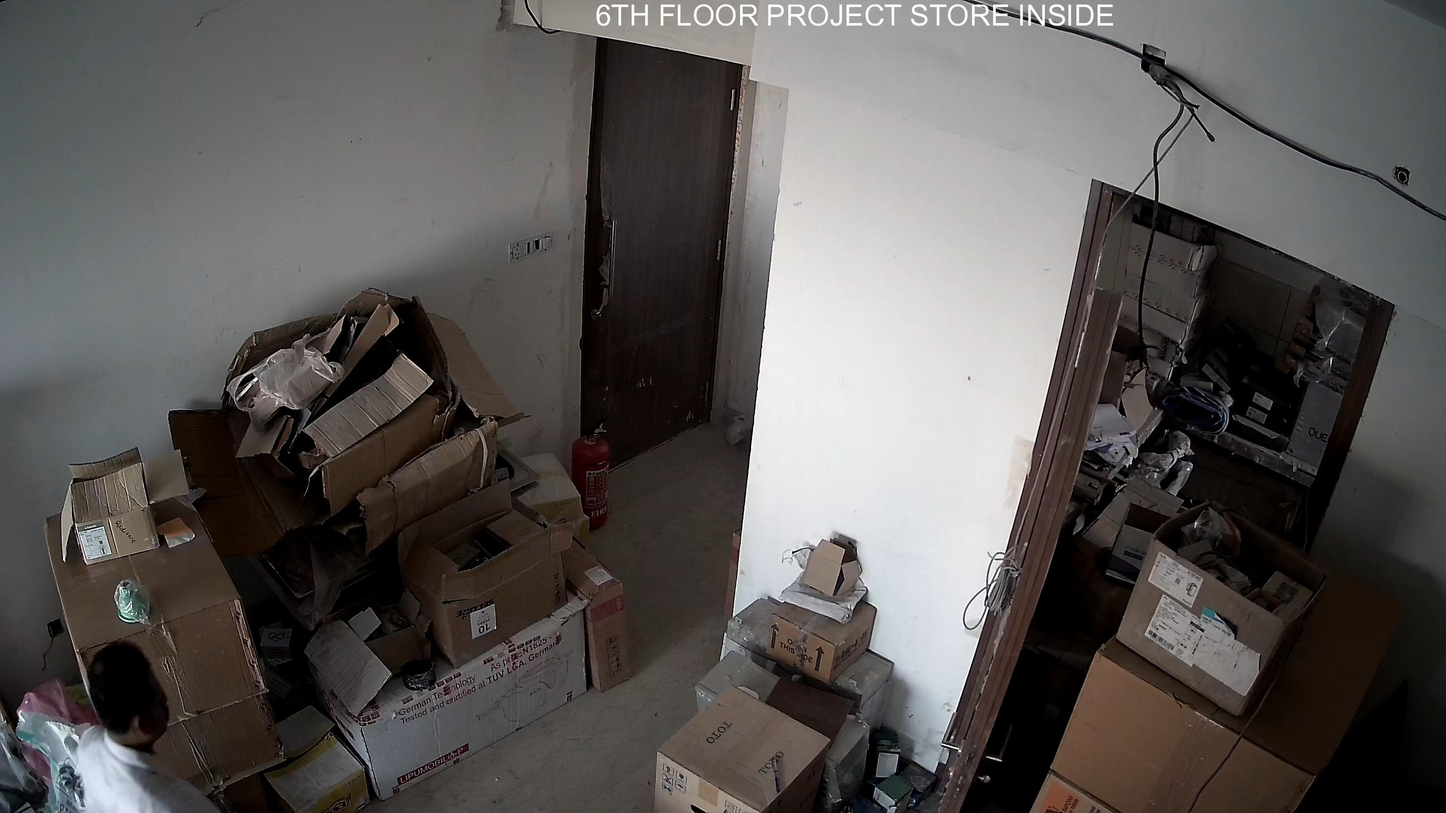Door-Close: (565, 31, 752, 486)
